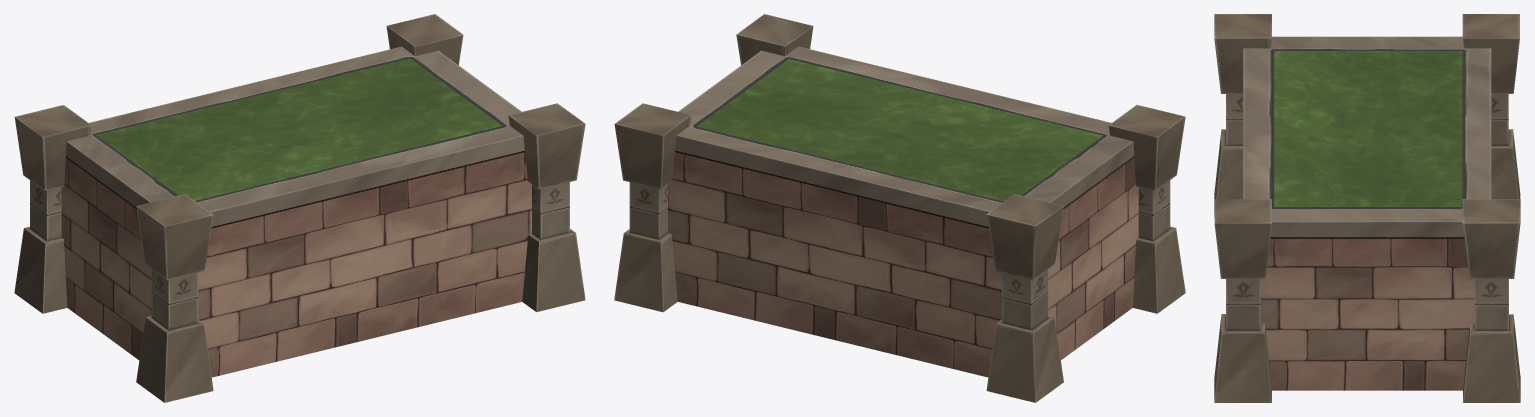
Rendered from wall_simple.fbx.
The picture shows the model from 3 angles, left to right: view 1: azimuth 30°, elevation 25°; view 2: azimuth 150°, elevation 25°; view 3: azimuth 270°, elevation 25°; orthographic projection.
Visible parts, largest first — view 1: polySurface2488; view 2: polySurface2488; view 3: polySurface2488.
Part boxes in pixels (left/top/right/bottom): polySurface2488: left=14, top=14, right=585, bottom=402; polySurface2488: left=614, top=14, right=1185, bottom=402; polySurface2488: left=1214, top=14, right=1520, bottom=402.
Bounding box in the file's own units: 7.68 × 3.07 × 4.75.
